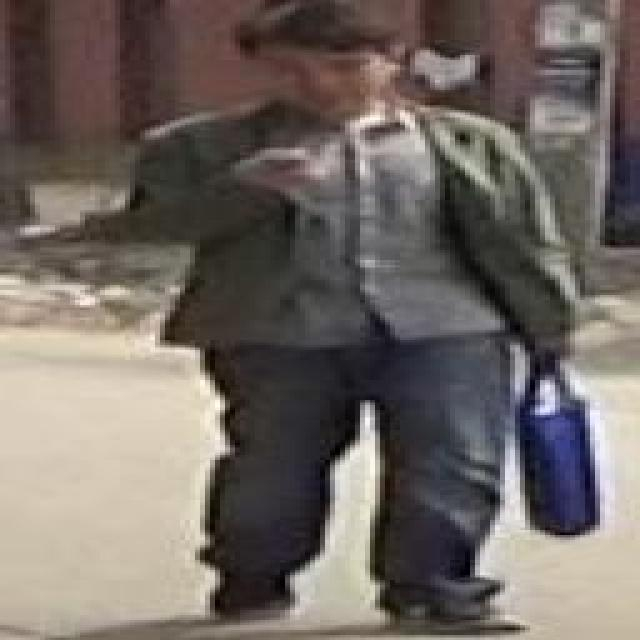adult: (91, 0, 604, 628)
